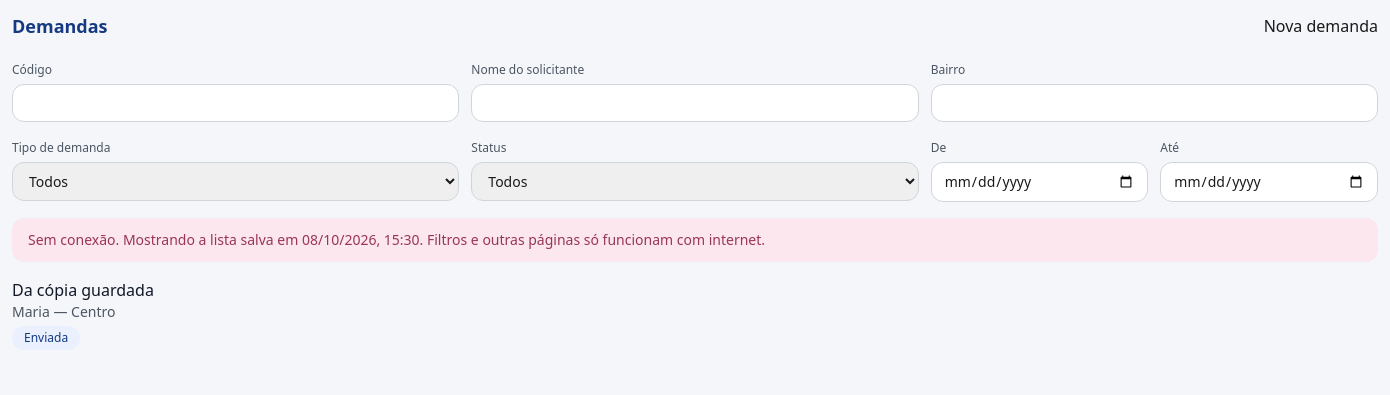
Scenario: DemandasPage — lista sem internet › com filtro ativo e sem rede, o aviso diz que a lista abaixo não está filtrada
The image size is (1390, 395).
Expected: the text "Da cópia guardada" is shown, left=12, top=279, right=154, bottom=301
Expected: the message does not show "não está filtrada", left=12, top=218, right=1378, bottom=262
Select "Recebida" in the dropdown labelled "Status" at point(695, 182), box left=471, top=162, right=919, bottom=201
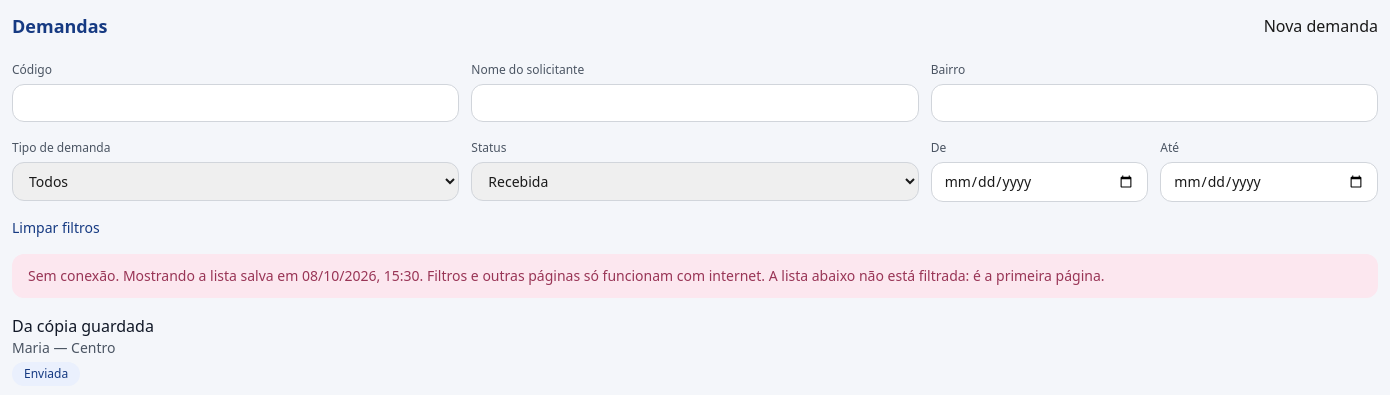
Now the message shows "A lista abaixo não está filtrada", box left=765, top=266, right=1104, bottom=285
